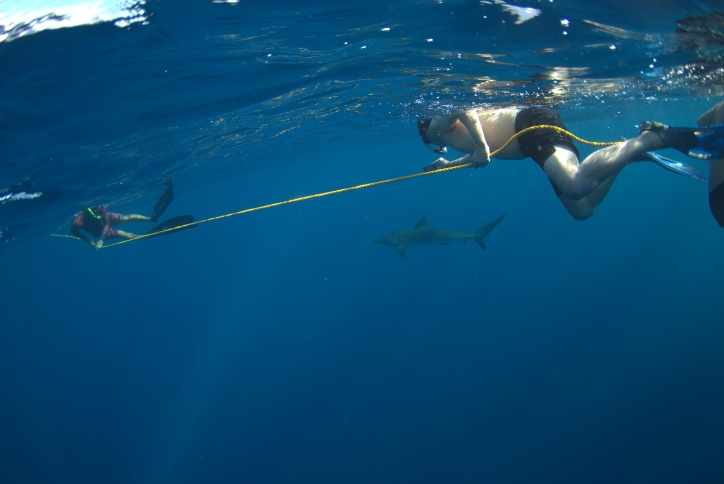Sedoso: (366, 196, 519, 264)
